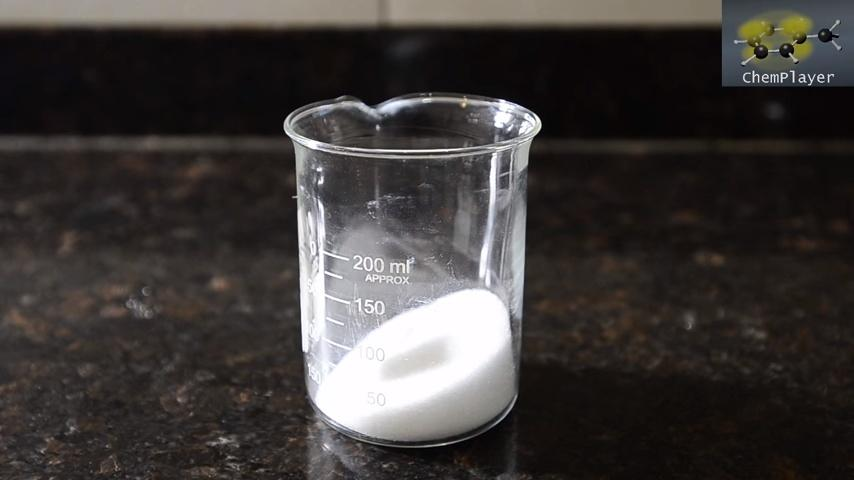Beaker: (261, 83, 577, 444)
